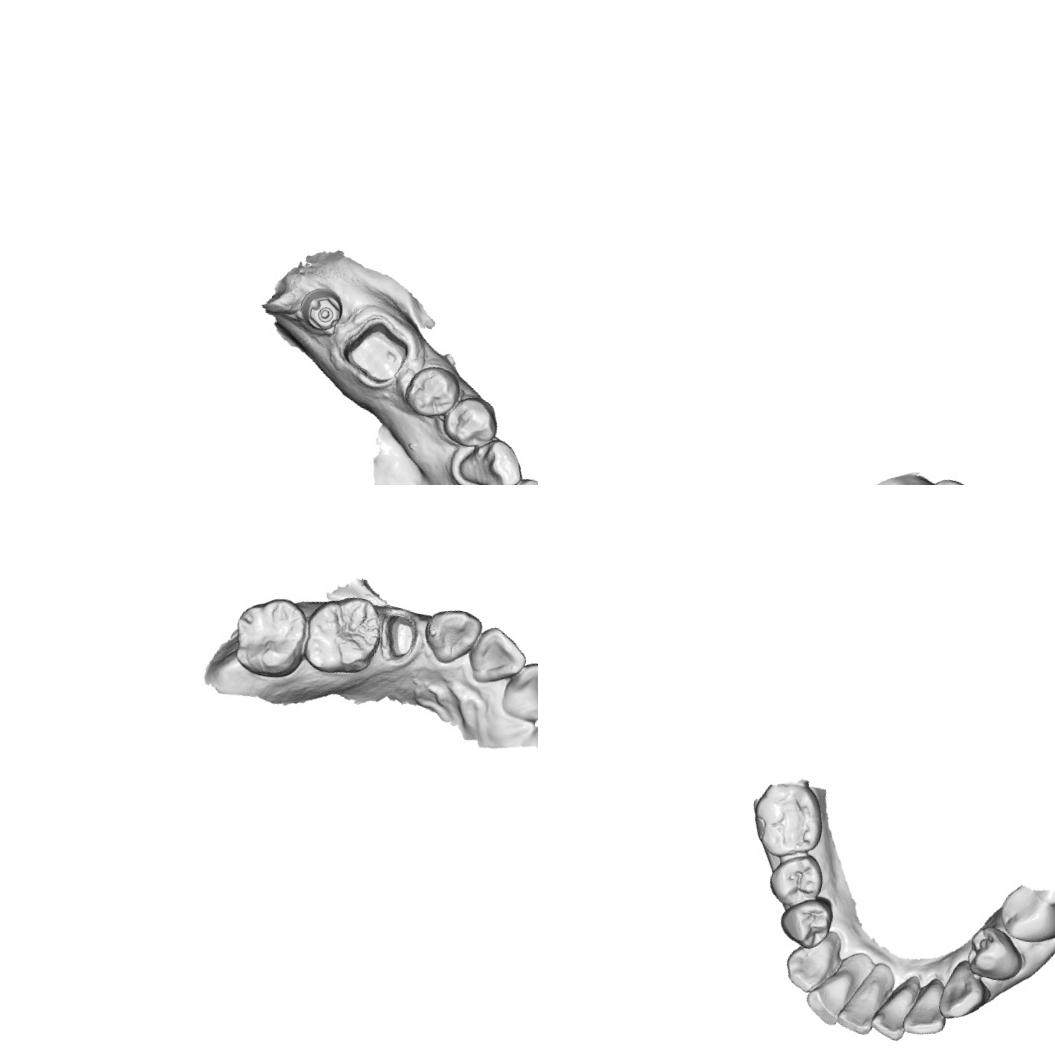canine: (778, 920, 844, 998), (416, 600, 487, 670), (453, 430, 530, 485), (933, 955, 992, 1026)
crown: (372, 604, 420, 664)
implant: (294, 280, 348, 338)
incisor: (461, 619, 534, 694), (800, 950, 862, 1029), (867, 966, 923, 1044), (898, 970, 956, 1041), (832, 969, 884, 1038), (495, 652, 538, 728), (482, 467, 538, 485)
molar: (294, 583, 390, 685), (223, 586, 316, 686), (744, 774, 832, 865)
premolar: (762, 845, 829, 914), (399, 358, 466, 423), (438, 388, 504, 453), (962, 922, 1030, 985), (993, 882, 1055, 950), (773, 888, 837, 953)
